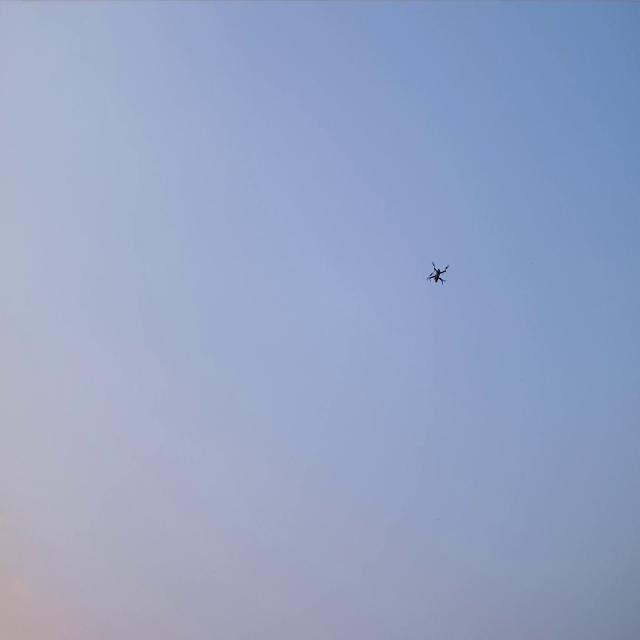UAV: (426, 259, 450, 286)
